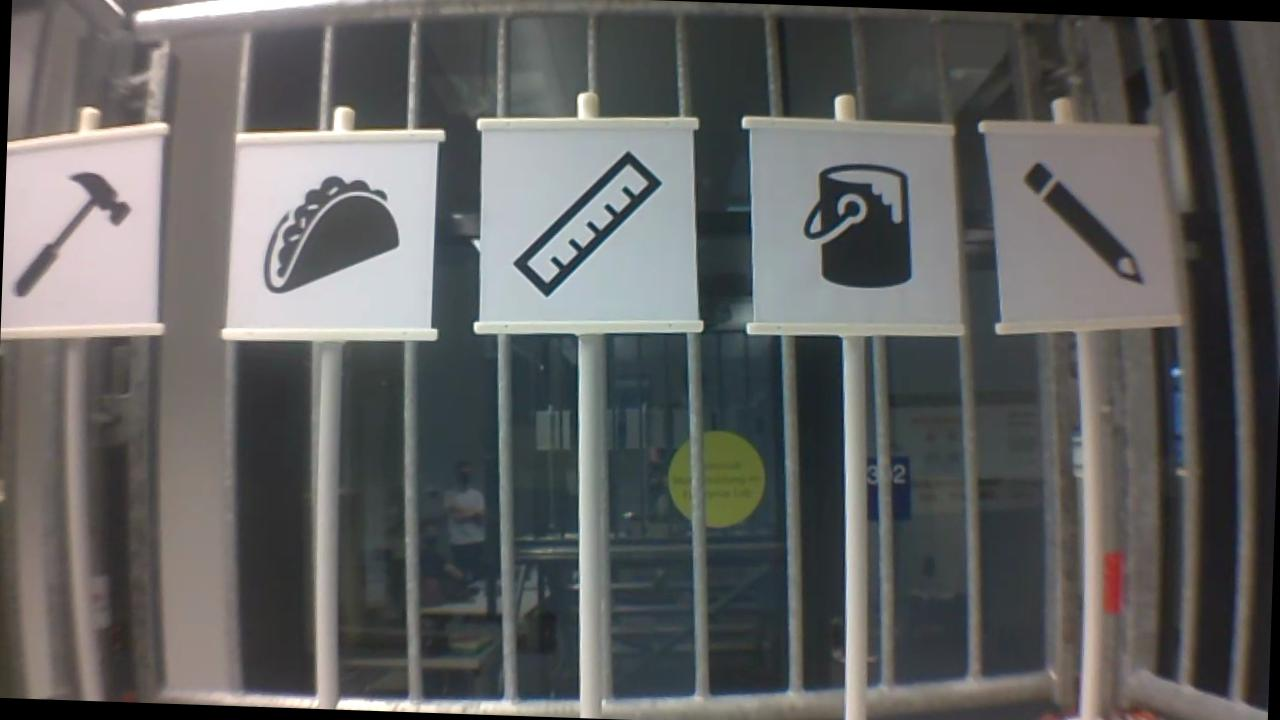bucket: (794, 157, 923, 294)
hammer: (5, 160, 140, 302)
pencil: (1010, 154, 1154, 296)
ruler: (506, 139, 675, 304)
taco: (253, 166, 408, 304)
